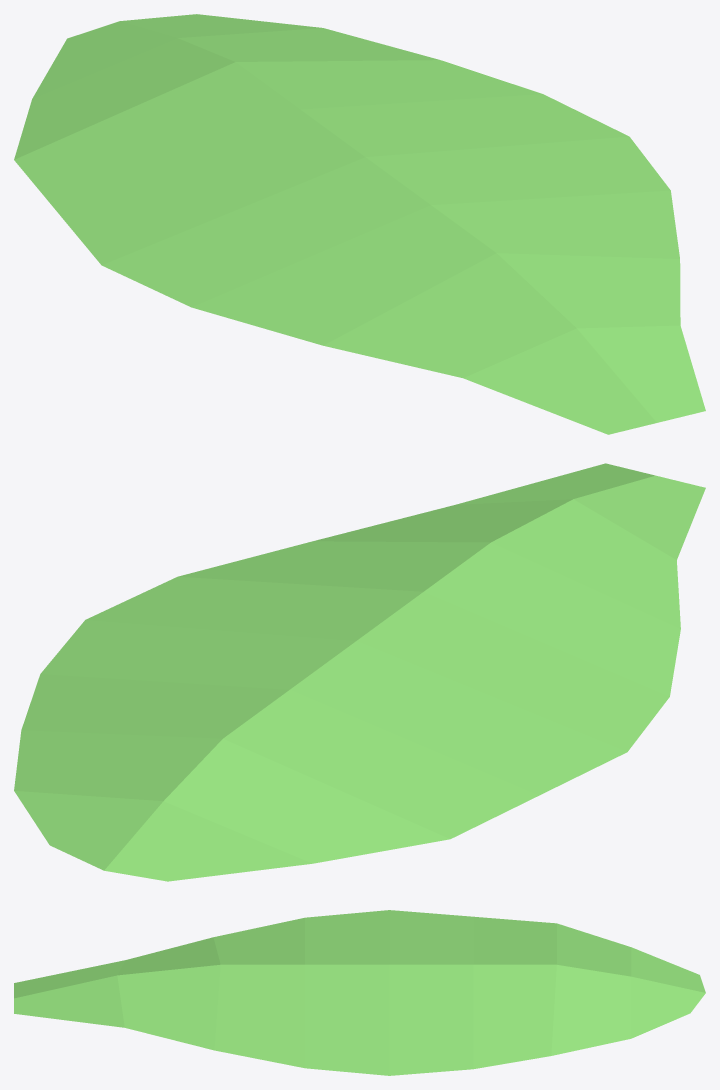
File: leaf.fbx
3 views of the same model, one above another, from view 1: azimuth 30°, elevation 25°; view 2: azimuth 150°, elevation 25°; view 3: azimuth 270°, elevation 25° (orthographic). The views are drawn at different scales.
Visible parts, largest first — view 1: Plane; view 2: Plane; view 3: Plane.
Part boxes in pixels (x1,y1,x2,y2): Plane: (14,14,705,434); Plane: (14,463,705,881); Plane: (14,910,705,1075).
Size of the model in its own units: 380 by 35.98 by 670.
